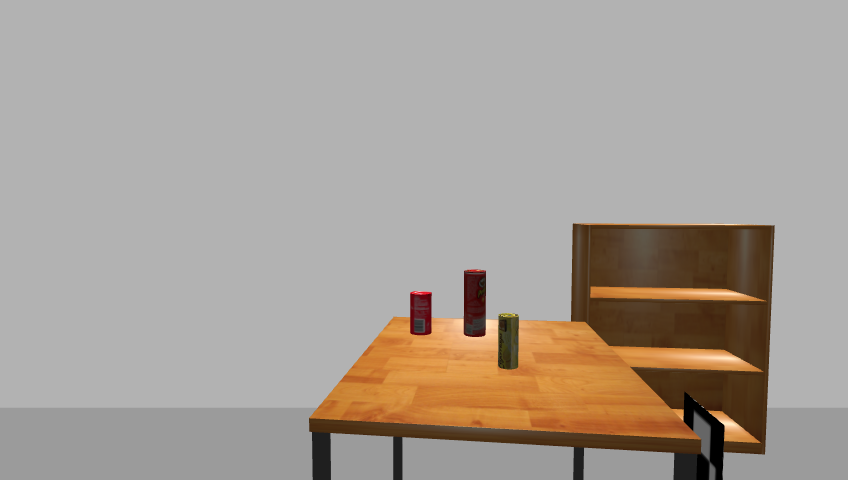aruco marker: (679, 393, 729, 480)
biscuits pack: (498, 313, 520, 371)
bookshelf: (567, 220, 782, 463)
coke can: (408, 290, 433, 336)
dinner table: (304, 315, 703, 480)
pringles can: (461, 268, 488, 338)
